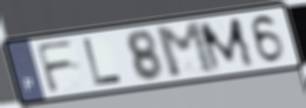6: (249, 13, 288, 65)
8: (125, 28, 166, 83)
F: (34, 38, 78, 96)
L: (80, 37, 125, 88)
M: (152, 19, 220, 81), (196, 15, 258, 74)
